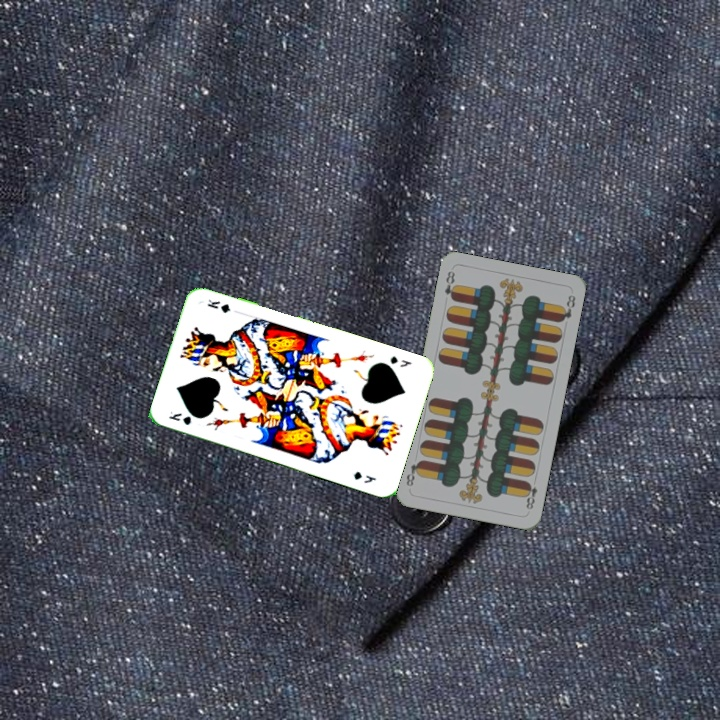E8: (521, 474, 540, 512), (440, 267, 459, 303)
GK: (165, 407, 195, 428), (386, 352, 414, 370)
